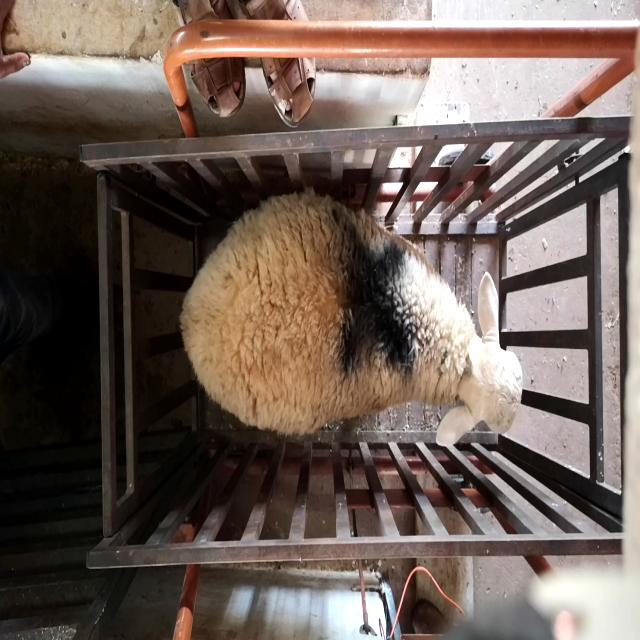sheep: (179, 191, 523, 449)
